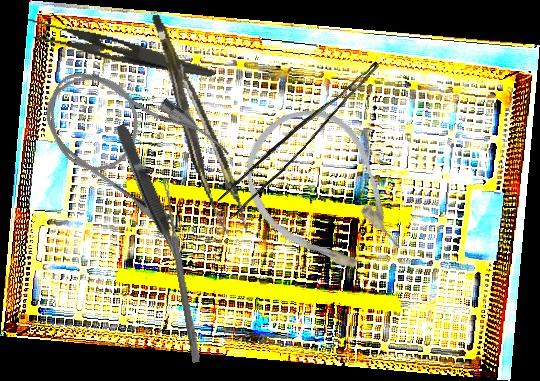Cannula: (221, 87, 427, 303), (25, 43, 235, 235)
Dressing Forceps: (21, 15, 220, 79)
Surgical Spoon: (160, 178, 202, 363)
Tissue Forceps: (216, 45, 380, 222), (151, 6, 249, 242), (112, 121, 185, 263)
